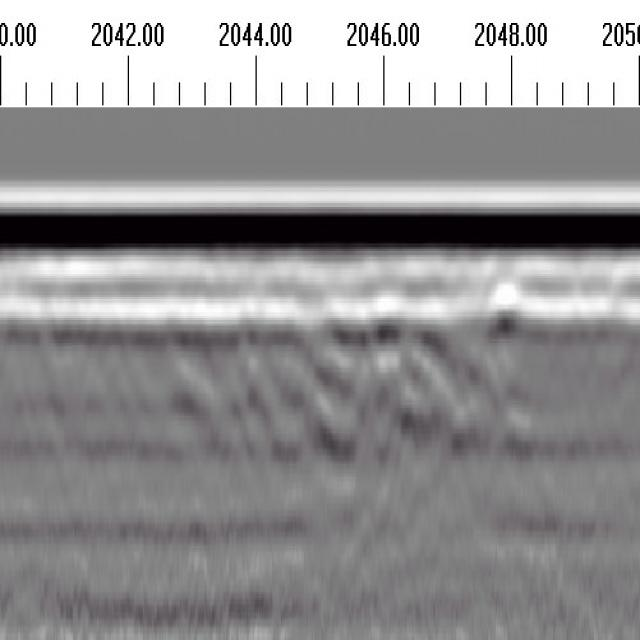loose: (241, 291, 527, 452)
